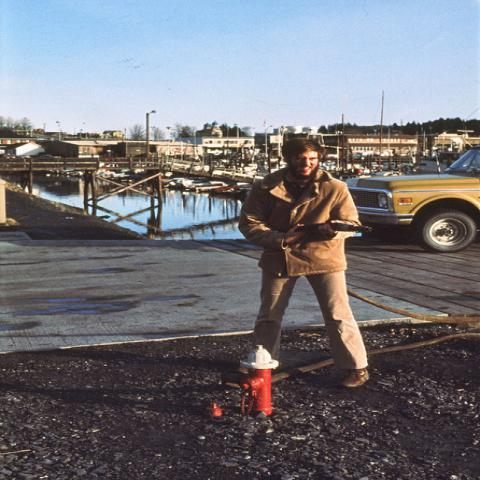car: (335, 146, 479, 258), (381, 162, 399, 170)
truck: (343, 135, 479, 254)
